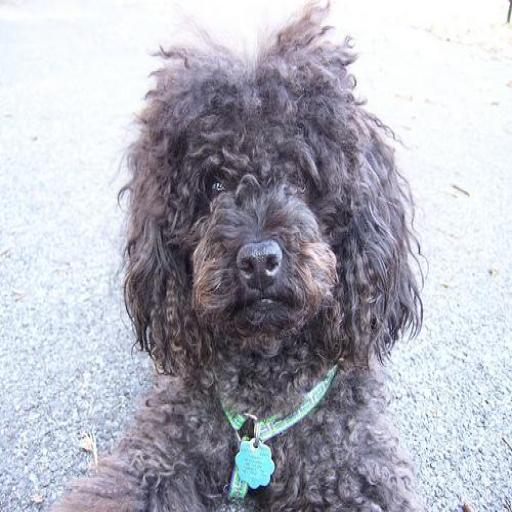dog_face: (120, 42, 404, 370)
